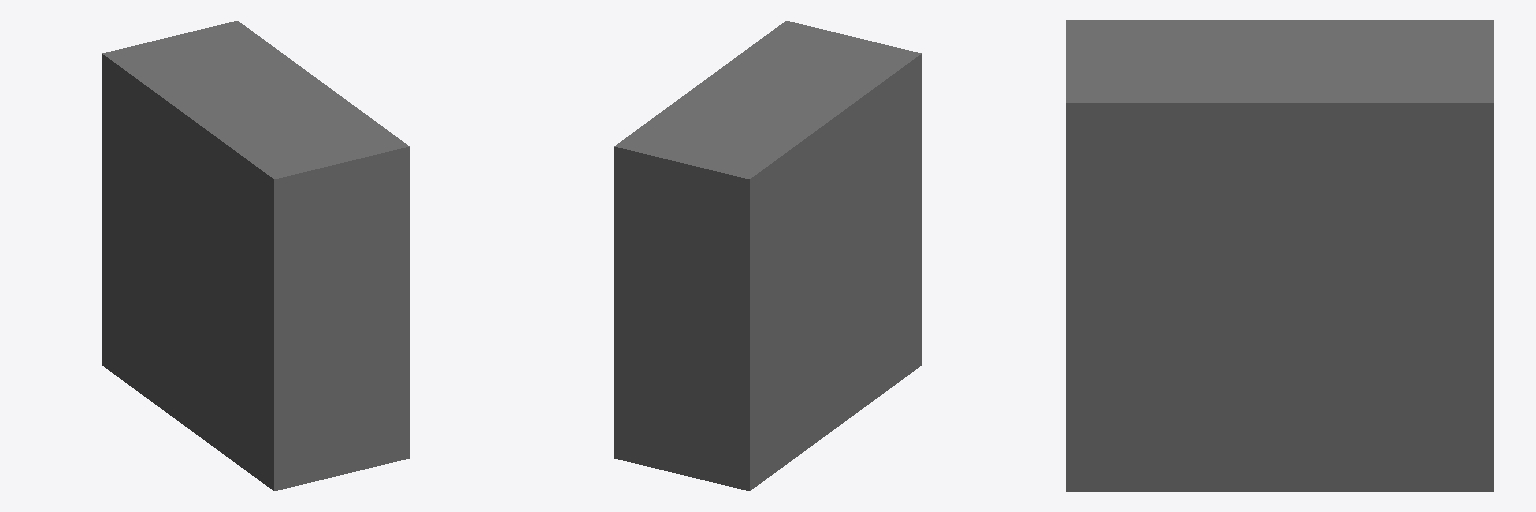
URDF robot description (grasp_box):
<robot name="grasp_box">

    <!-- Colours for RVIZ for geometric elements -->
    <material name="blue">
        <color rgba="0 0 0.8 1"/>
    </material>
    <material name="red">
        <color rgba="0.8 0 0 1"/>
    </material>
    <material name="green">
        <color rgba="0 0.8 0 1"/>
    </material>
    <material name="grey">
        <color rgba="0.5 0.5 0.5 1"/>
    </material>
    <material name="white">
        <color rgba="1.0 1.0 1.0 1"/>
    </material>
    <material name="black">
        <color rgba="0 0 0 1"/>
    </material>


	<!-- * * * Link Definitions * * * -->

    <link name="grasp_box_base_link">
 	    <inertial>
            <origin xyz="0 0 0" rpy="0 0 0"/>
            <mass value="0.5" />
            <inertia ixx="0.000133333333333" ixy="0.0" ixz="0.0" iyy="0.000133333333333" iyz="0.0" izz="0.000133333333333"/>
        </inertial>
        <collision>
            <origin xyz="0 0 0" rpy="0 0 0"/>
            <geometry>
                <box size="0.05 0.11 0.11"/>
            </geometry>
        </collision>
        <visual>
            <origin rpy="0.0 0 0" xyz="0 0 0"/>
            <geometry>
                <box size="0.05 0.11 0.11"/>
            </geometry>
            <material name="grey"/>
        </visual>
    </link>

    <gazebo reference="grasp_box_base_link">
        <kp>100000.0</kp>
        <kd>100000.0</kd>
        <mu1>1000</mu1>
        <mu2>1000</mu2>
        <material>Gazebo/grey</material>
    </gazebo>

</robot>

--- What the picture shows (computed from the rendered views, not written in the file) ---
3 views of the same robot in one strip: view 1: azimuth 30°, elevation 25°; view 2: azimuth 150°, elevation 25°; view 3: azimuth 270°, elevation 25° (orthographic).
Model grasp_box with 1 links and 0 joints (none), rooted at grasp_box_base_link, posed every joint at zero.
Links seen in each view (by area): view 1: grasp_box_base_link; view 2: grasp_box_base_link; view 3: grasp_box_base_link.
Link boxes in pixels (bbox=[...]): grasp_box_base_link: bbox=[102, 21, 409, 490]; grasp_box_base_link: bbox=[614, 21, 921, 490]; grasp_box_base_link: bbox=[1066, 20, 1493, 491].
Bounding box of the posed robot: 0.05 × 0.11 × 0.11 m (x, y, z).
Geometry: primitives only (box / cylinder / sphere), no mesh files.